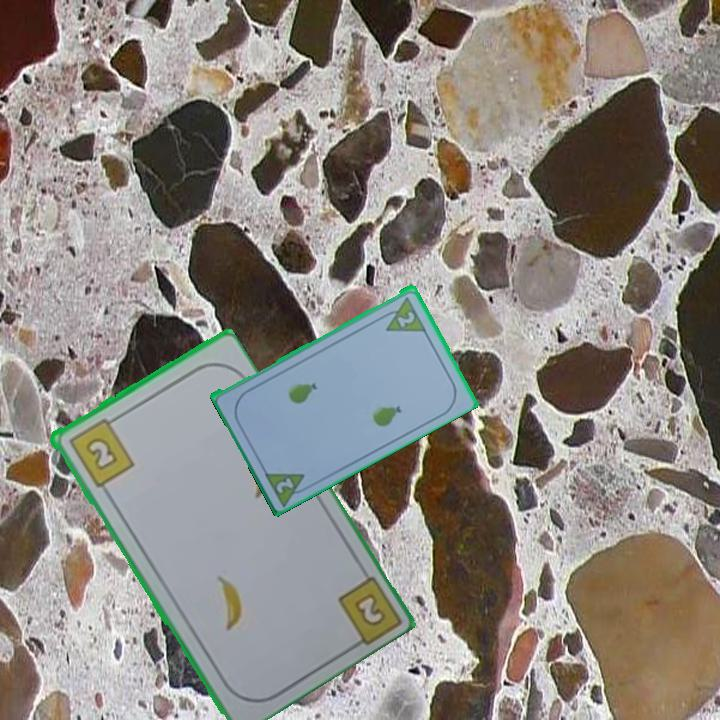2b: (64, 413, 137, 490), (354, 593, 385, 626)
2p: (260, 466, 314, 508), (394, 307, 418, 330)
